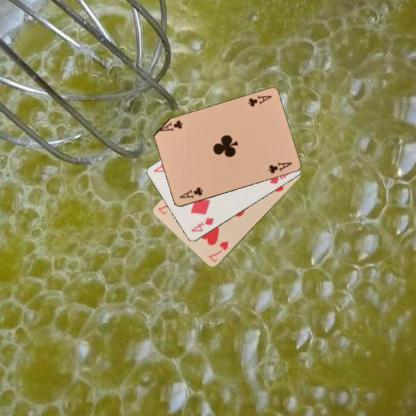4d: (188, 215, 215, 233)
7h: (206, 238, 229, 263)
Ac: (177, 184, 204, 200), (245, 93, 273, 108)
